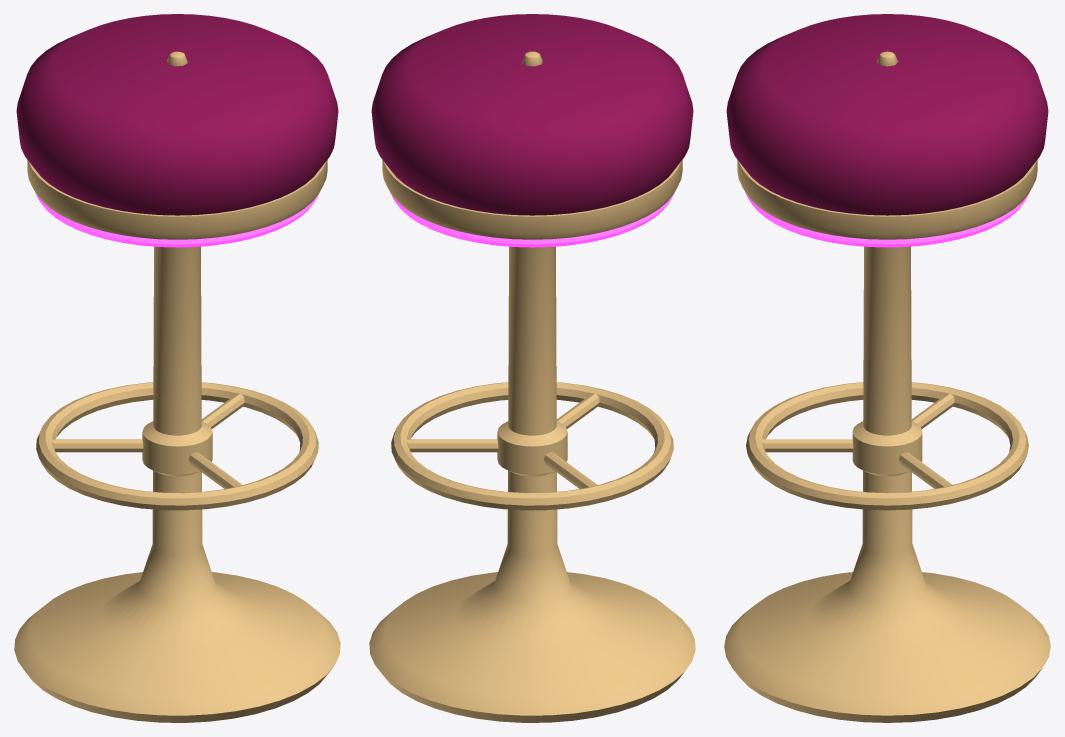
The model's file is KIT_Banqueta_Bar.glb.
3 renders of one model, left to right at view 1: azimuth 30°, elevation 25°; view 2: azimuth 150°, elevation 25°; view 3: azimuth 270°, elevation 25°, orthographic.
Visible parts, largest first — view 1: KIT_Banqueta_Bar; view 2: KIT_Banqueta_Bar; view 3: KIT_Banqueta_Bar.
Part boxes in pixels (x1,y1,x2,y2): KIT_Banqueta_Bar: [14, 14, 340, 722]; KIT_Banqueta_Bar: [369, 14, 695, 722]; KIT_Banqueta_Bar: [724, 14, 1050, 722].
Bounding box in the file's own units: 0.42 × 0.859 × 0.42.
